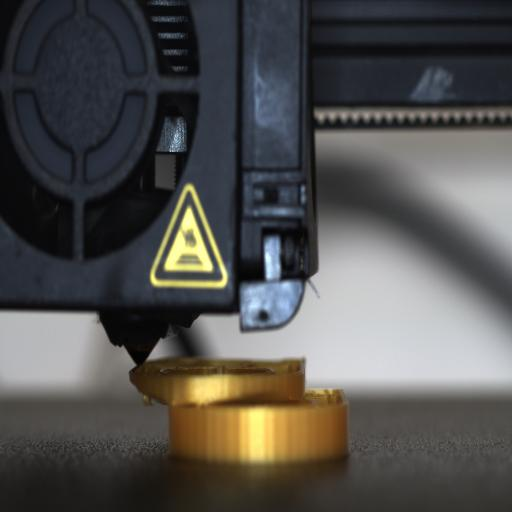layer_shift: (153, 382, 349, 418)
